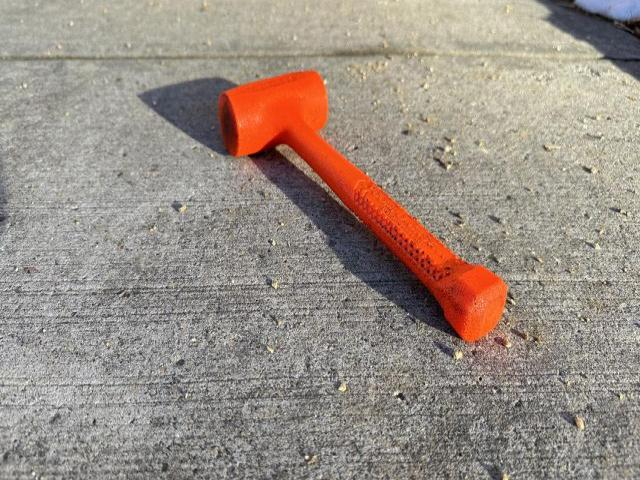hammer: (214, 69, 506, 341)
